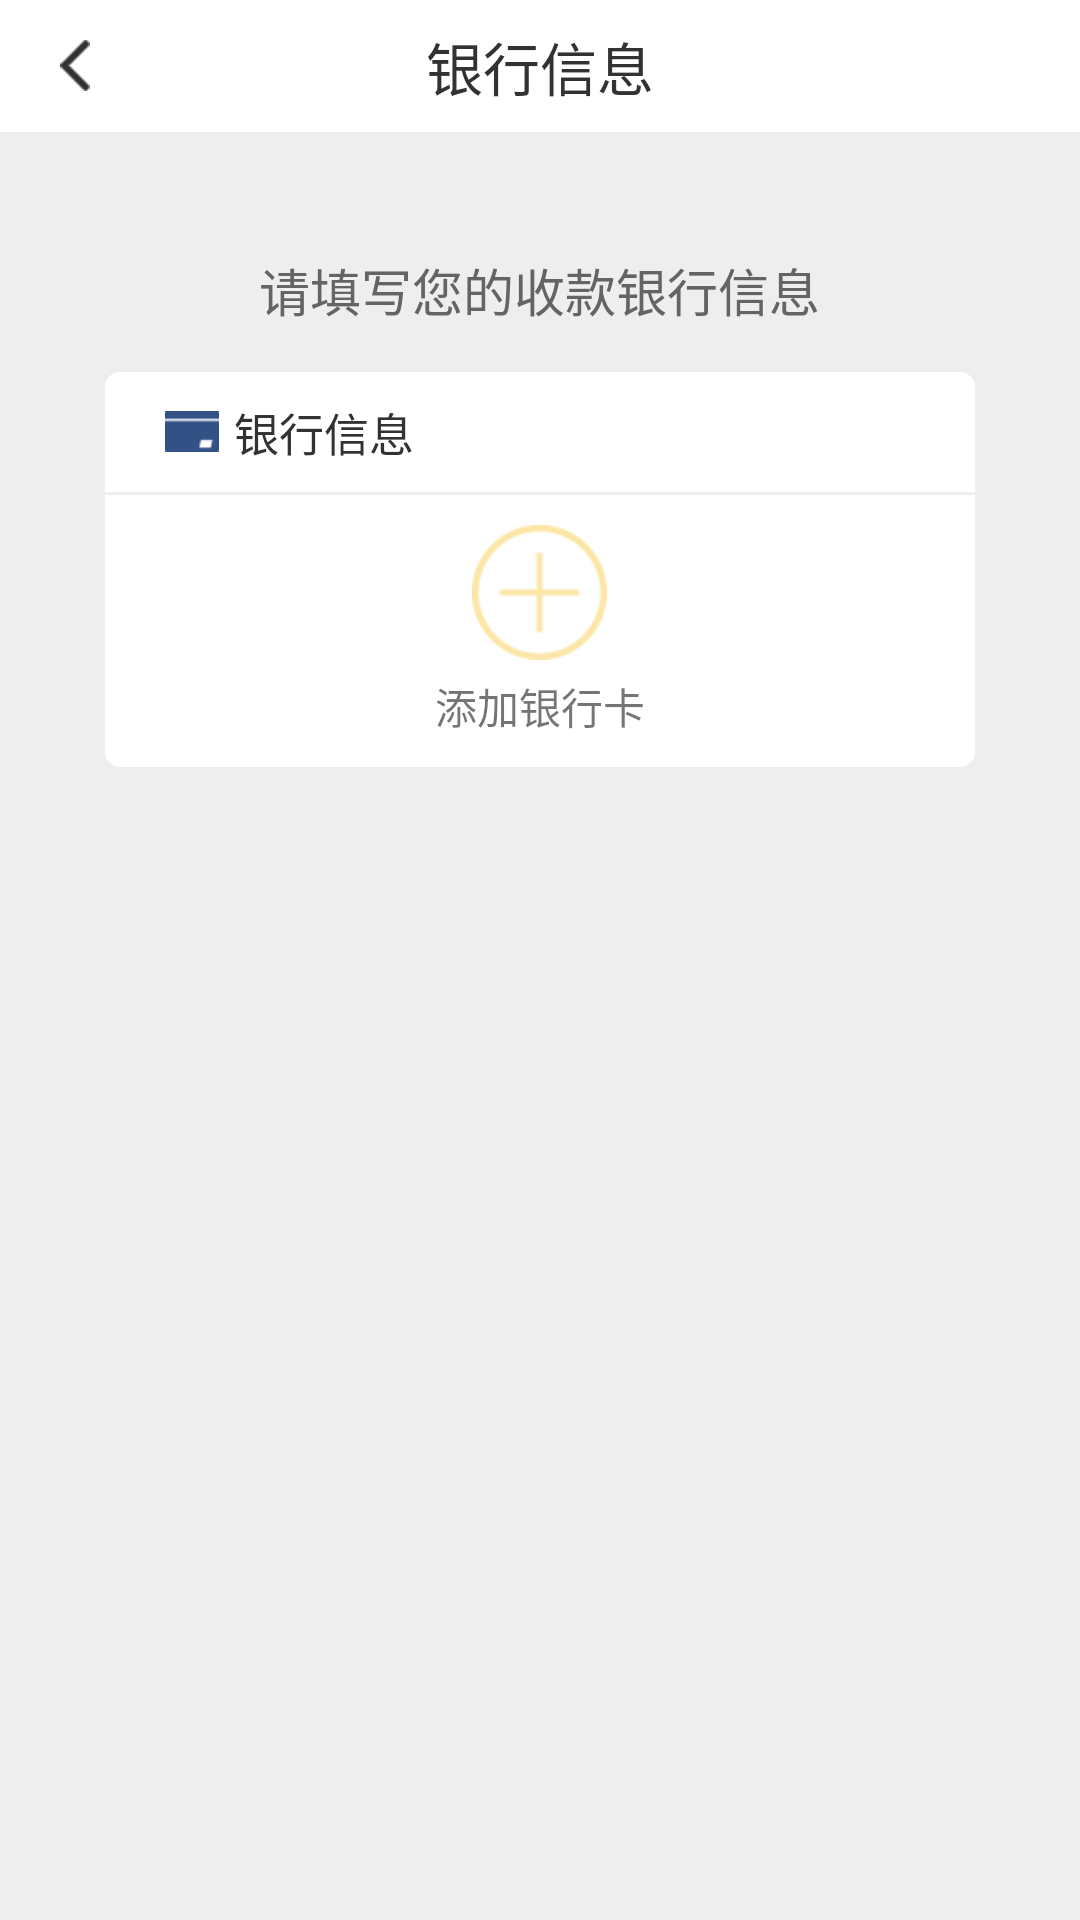

Icon bounding boxes for this 1080px×1920px phone screenshot, format (x1, y1, x2, y2):
return: (60, 40, 90, 91)
